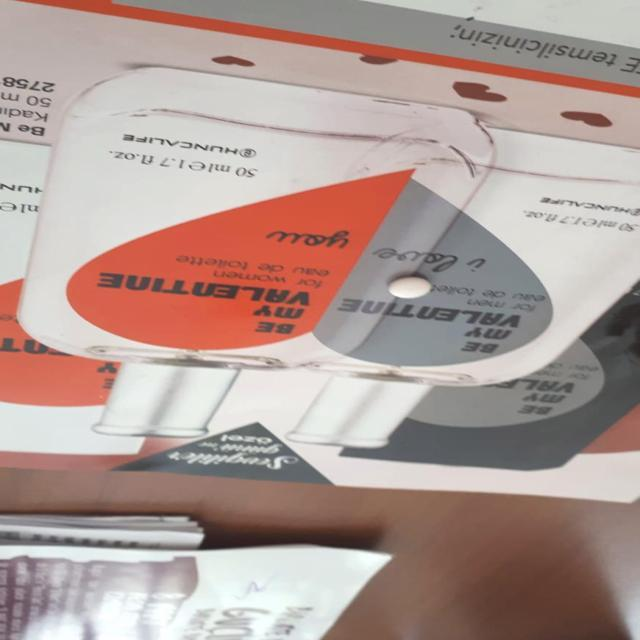pill: (379, 271, 434, 303)
